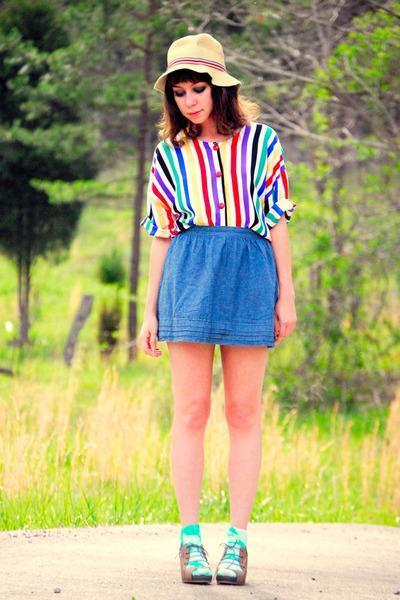hat: (140, 33, 240, 107)
shirt: (141, 122, 301, 245)
shoe: (179, 539, 248, 585)
skirt: (156, 228, 278, 346)
